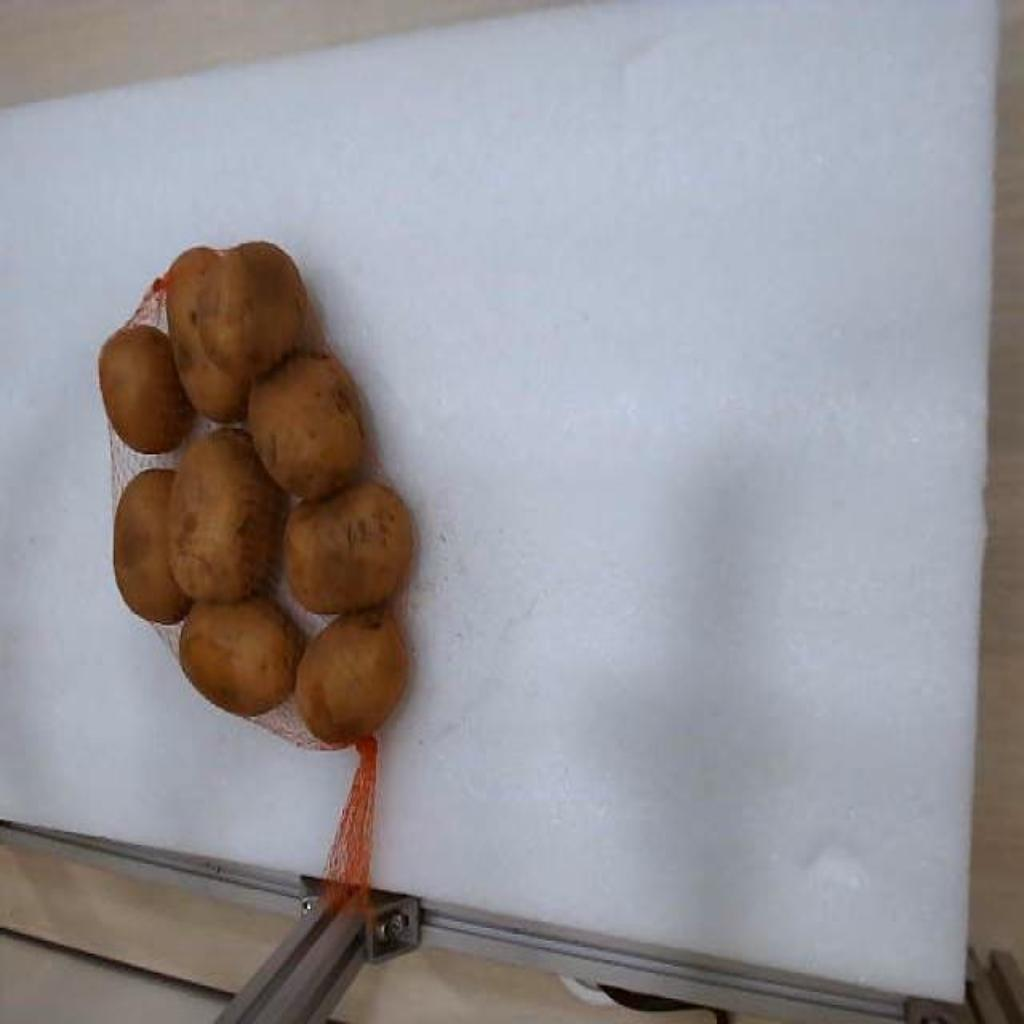potato: (164, 245, 306, 423), (168, 429, 284, 601), (248, 355, 364, 497), (286, 483, 412, 613), (294, 611, 410, 744), (180, 597, 304, 716), (98, 325, 194, 452), (116, 472, 192, 623), (238, 243, 306, 375)
